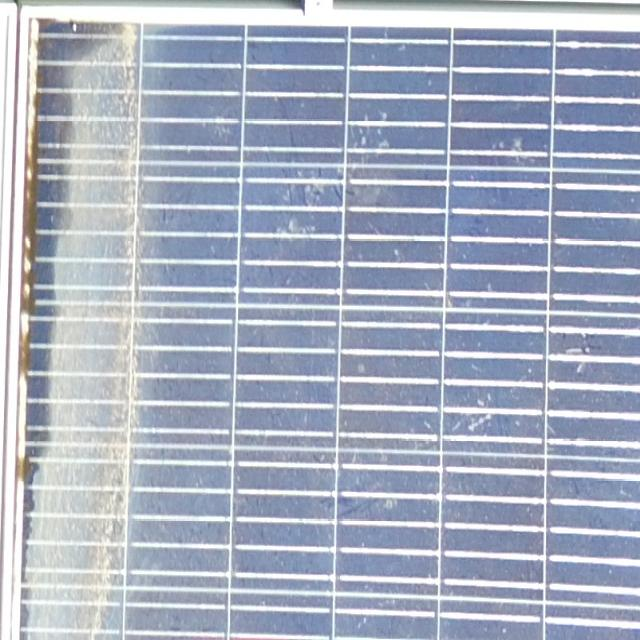Dust: (242, 89, 605, 488), (18, 17, 160, 634)
